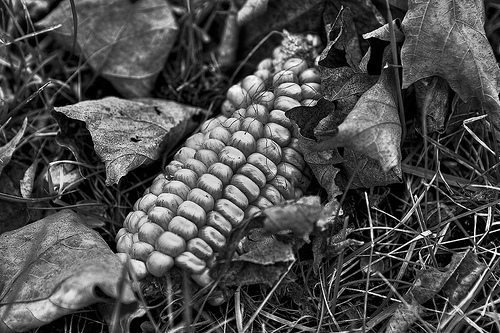corn: (116, 29, 329, 282)
